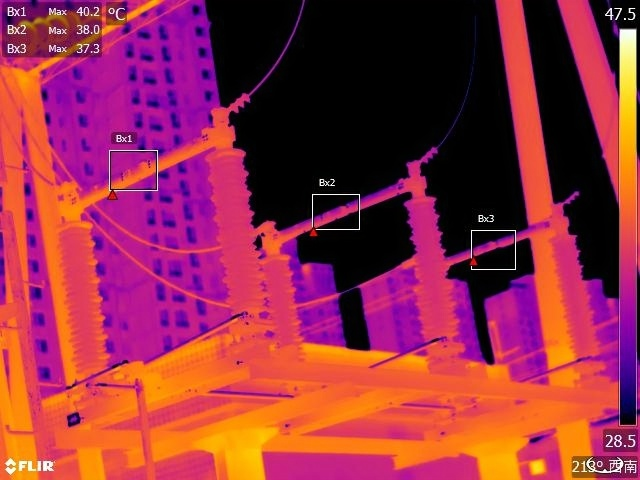post insulator: (205, 147, 270, 319), (61, 214, 118, 375), (404, 198, 461, 349), (548, 229, 606, 363), (256, 252, 308, 347)
switch: (52, 110, 245, 218), (254, 161, 431, 253), (447, 205, 574, 274)
